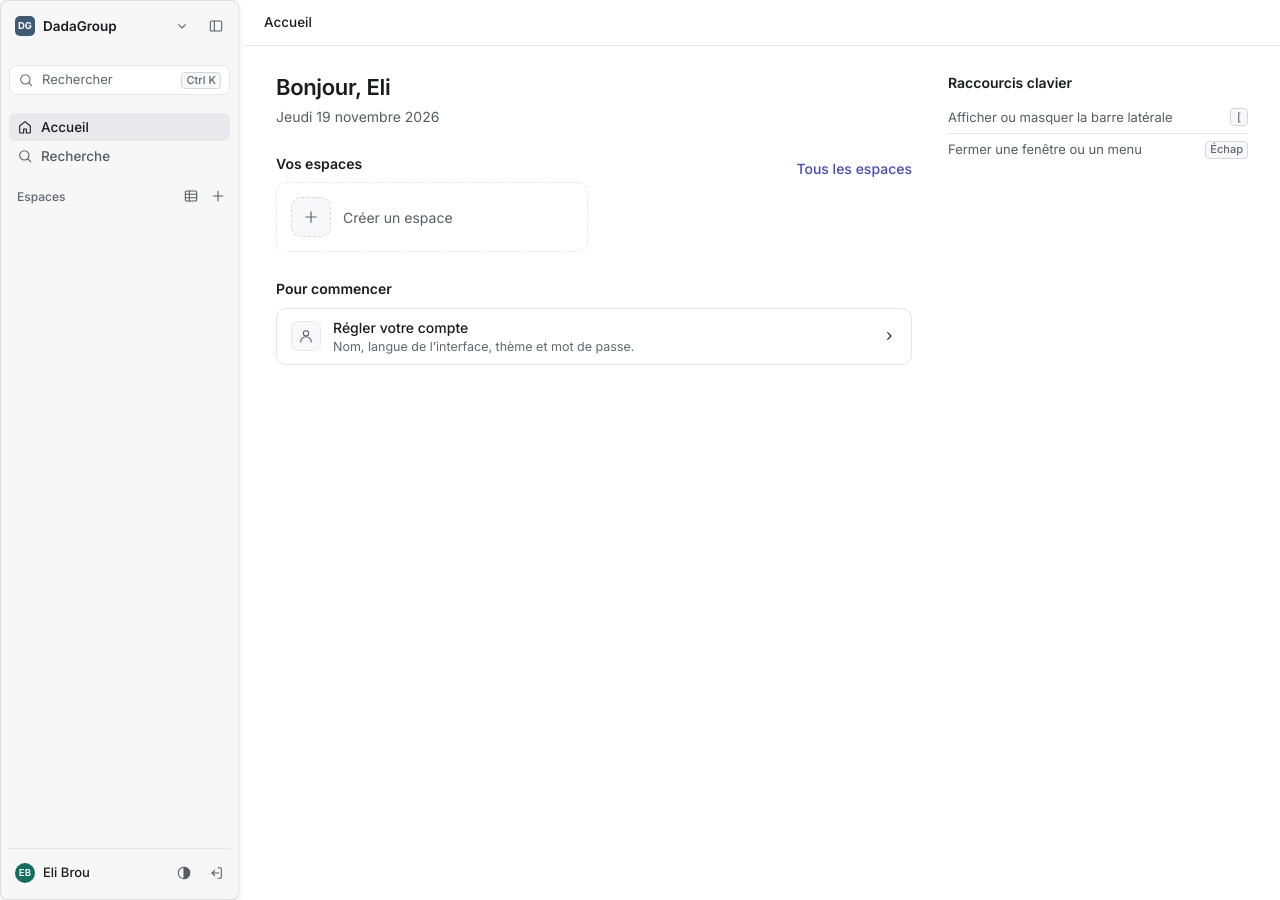
Scenario: spaces › closes the window of a new space without leaving a step in the history
The width and height of the screenshot is (1280, 900).
Click the button named "Créer un espace".
click(215, 196)  # box [204,185,226,207]
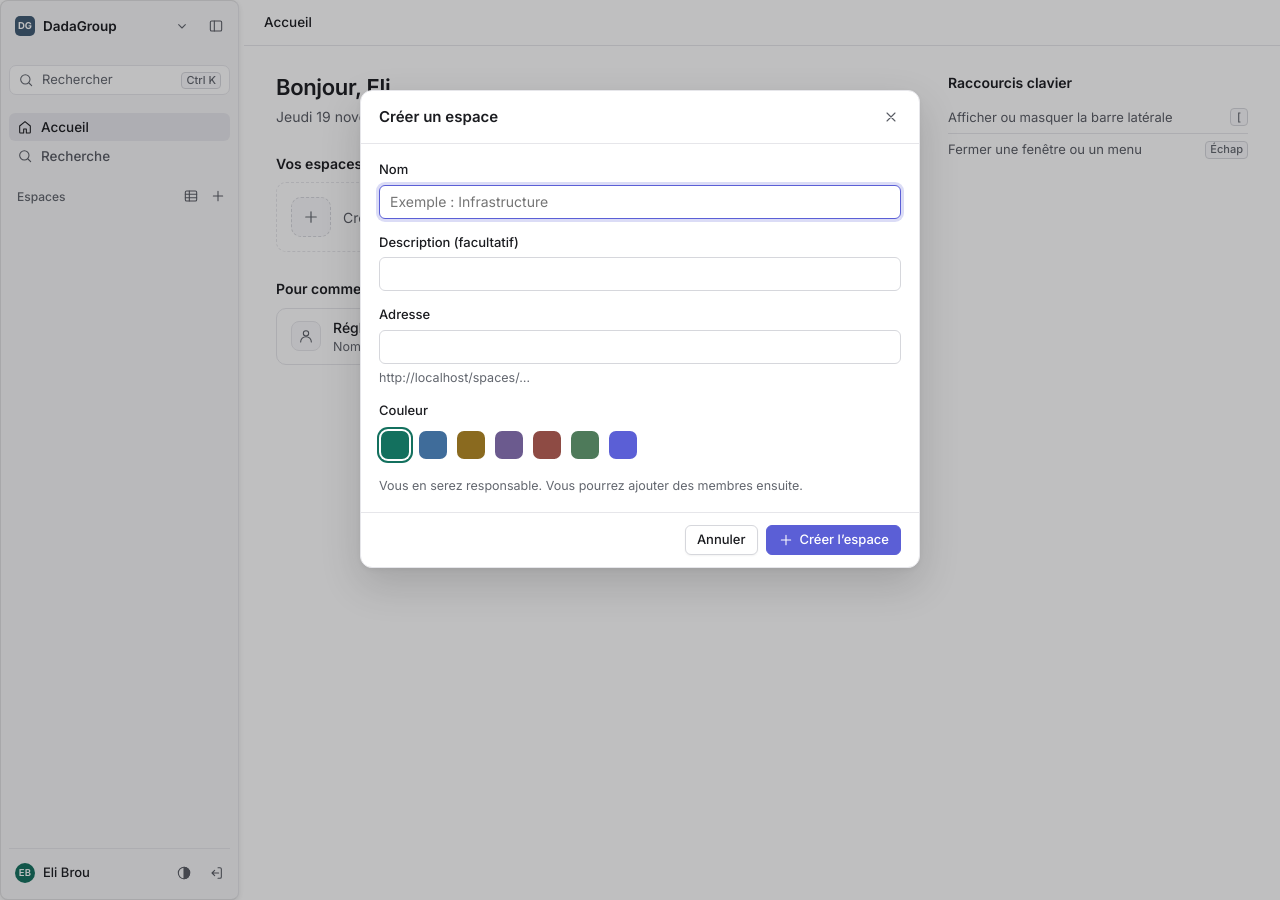
Click the button "Annuler".
click(721, 540)  # box [685,524,758,554]
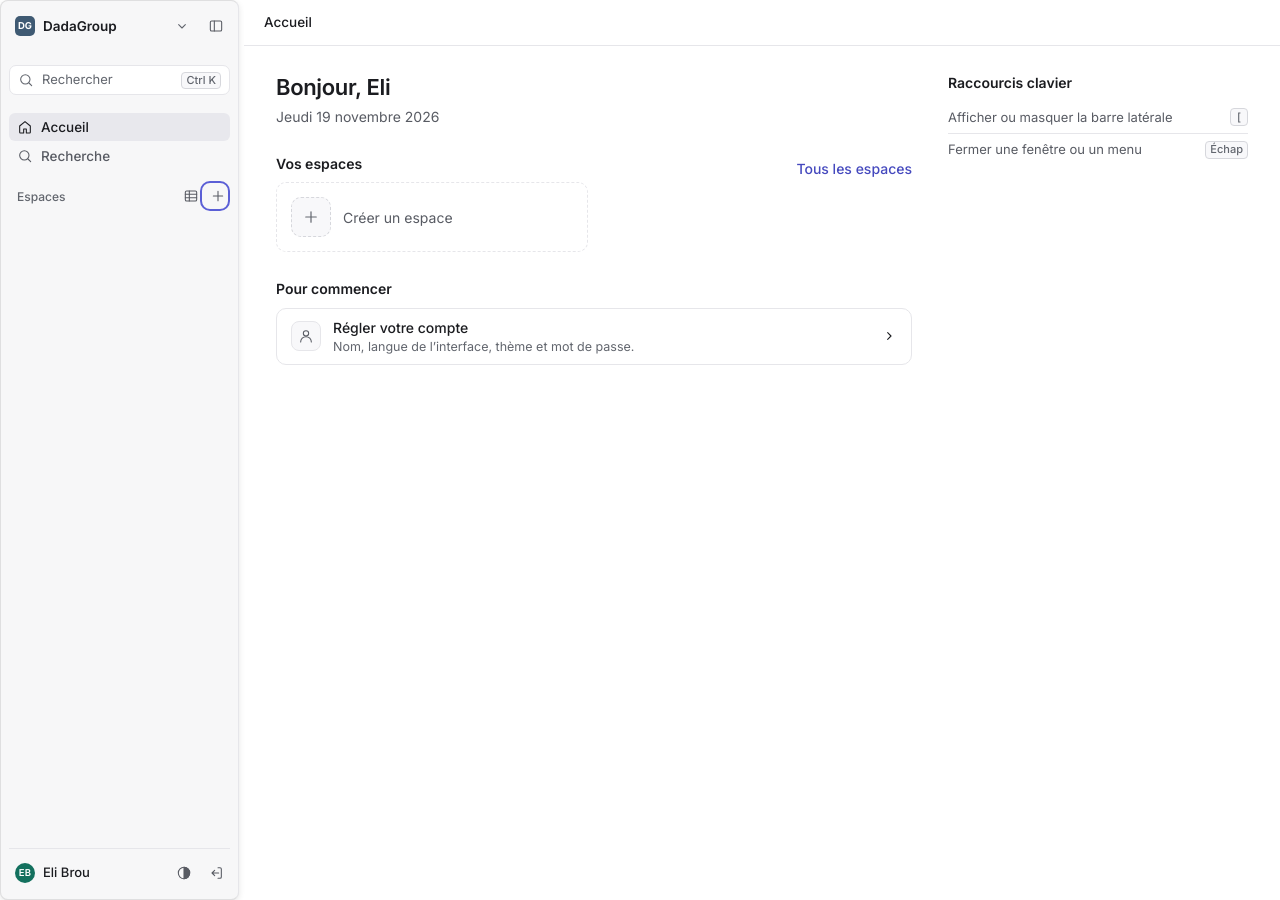
Now the dialog is gone
